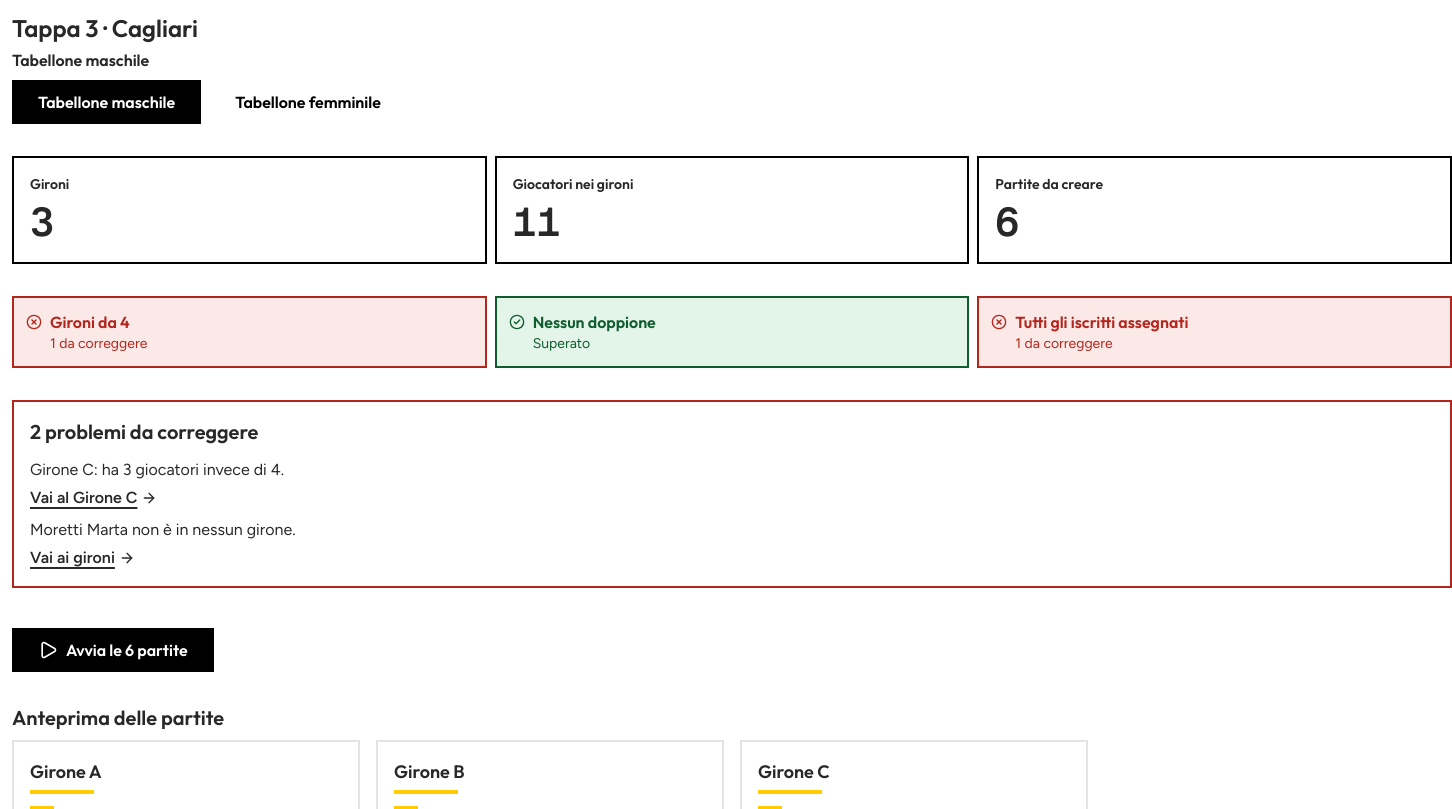
Test: AvvioFase (w-admin-avvio-fase) › annuncia il rifiuto del server e sposta il fuoco sugli errori
Step 1. Click the button "Avvia le 6 partite" → [113, 650], box [12,628,214,672]
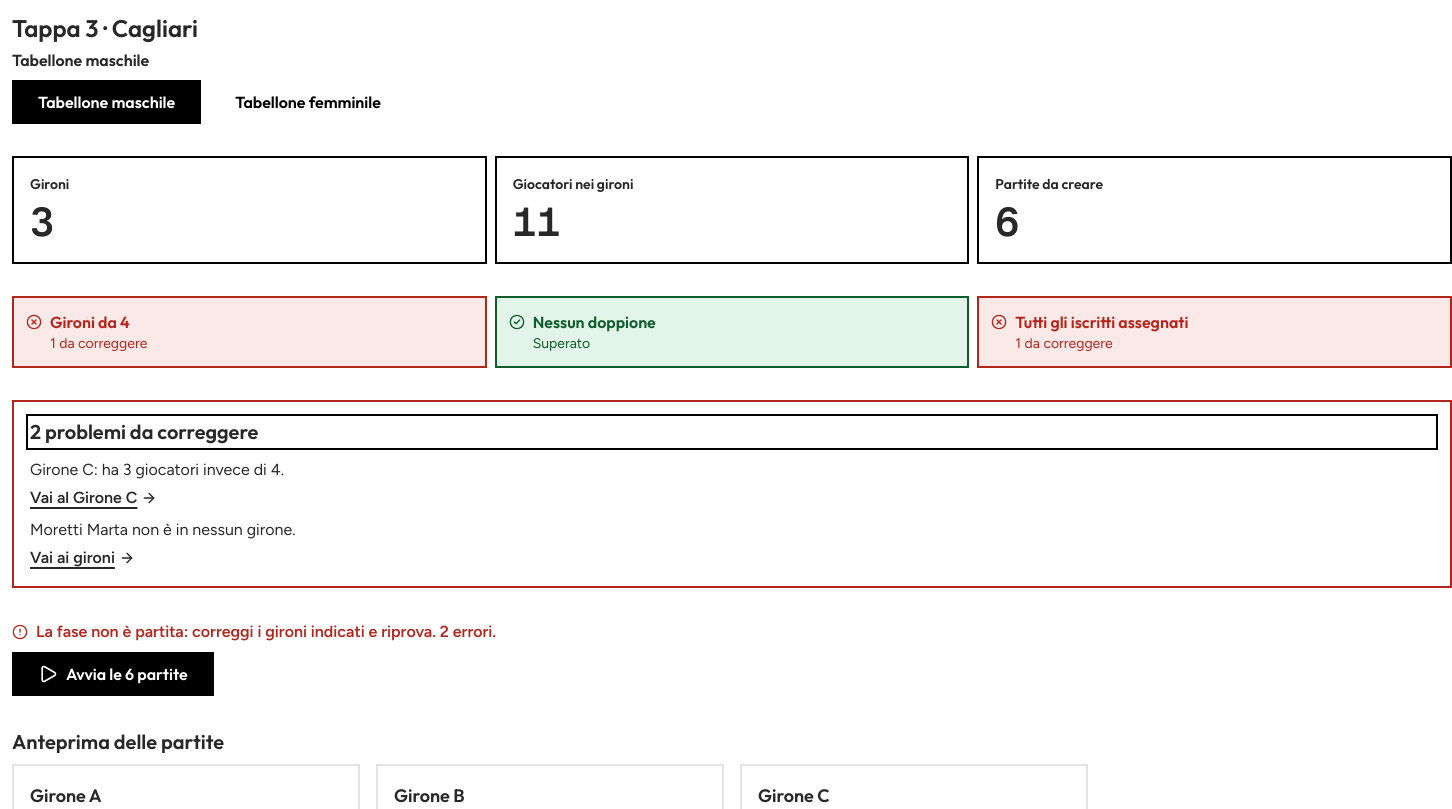
Expected: the message with test id "avvio-annuncio" reads "La fase non è partita: correggi i gironi indicati e riprova. 2 errori.", [12,622,496,641]
